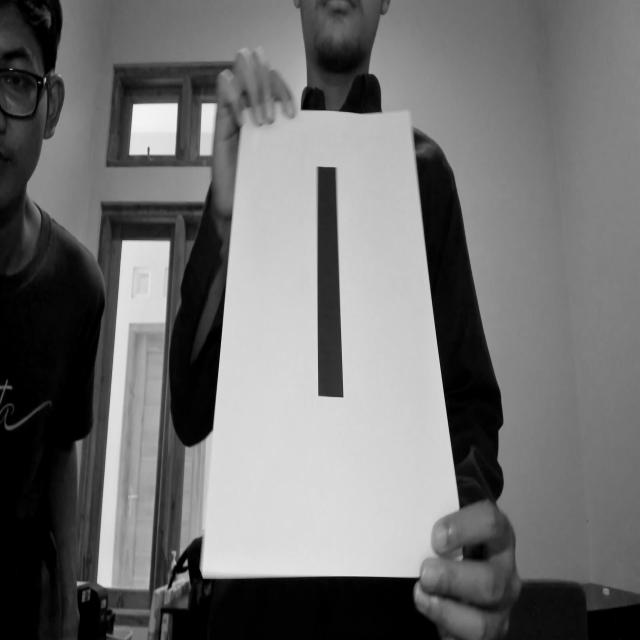i: (303, 154, 353, 431)
